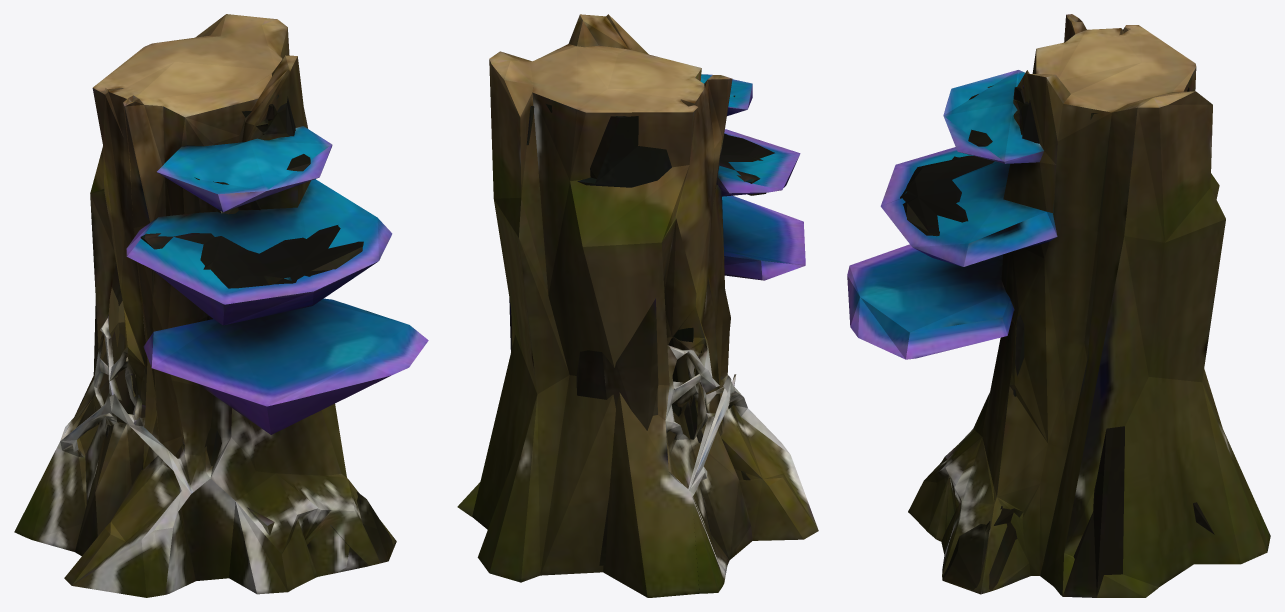
The model's file is mycelium_totem.glb.
3 renders of one model, left to right at view 1: azimuth 30°, elevation 25°; view 2: azimuth 150°, elevation 25°; view 3: azimuth 270°, elevation 25°, orthographic.
Visible parts, largest first — view 1: geometry_0; view 2: geometry_0; view 3: geometry_0.
Part boxes in pixels (<box>): geometry_0: <box>14,14,428,597</box>; geometry_0: <box>457,14,818,597</box>; geometry_0: <box>847,14,1270,597</box>.
Size of the model in its own units: 0.6723 by 0.9985 by 0.7913.
Materials: 1 (1 with a texture image).
